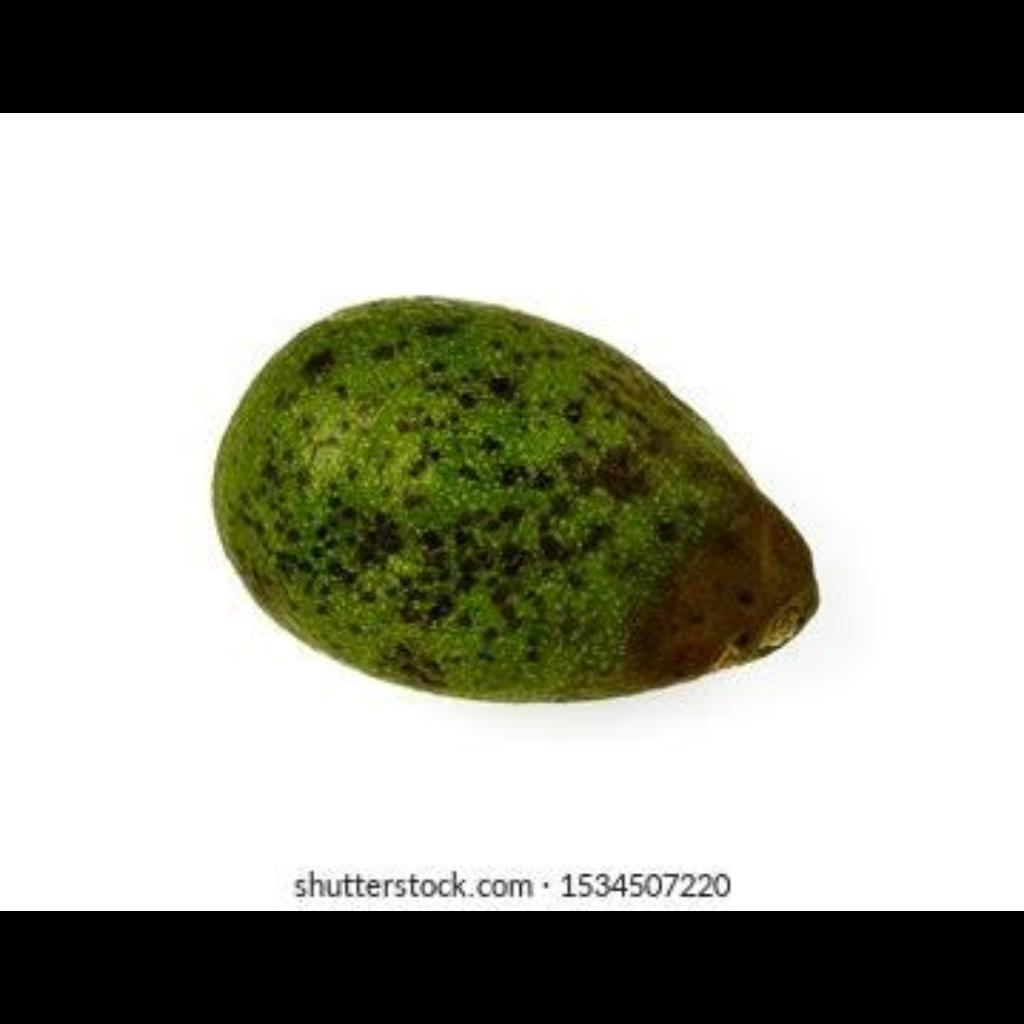antracnosis_fruto: (208, 288, 827, 693)
